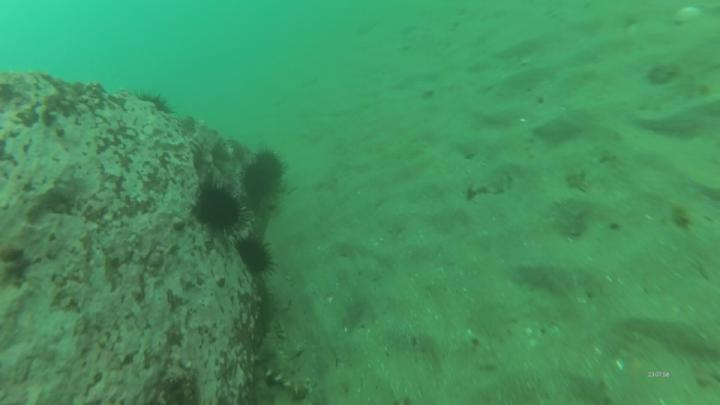echinus: (191, 186, 243, 233), (239, 233, 277, 276), (254, 150, 285, 188)
holothurian: (254, 352, 313, 401)
